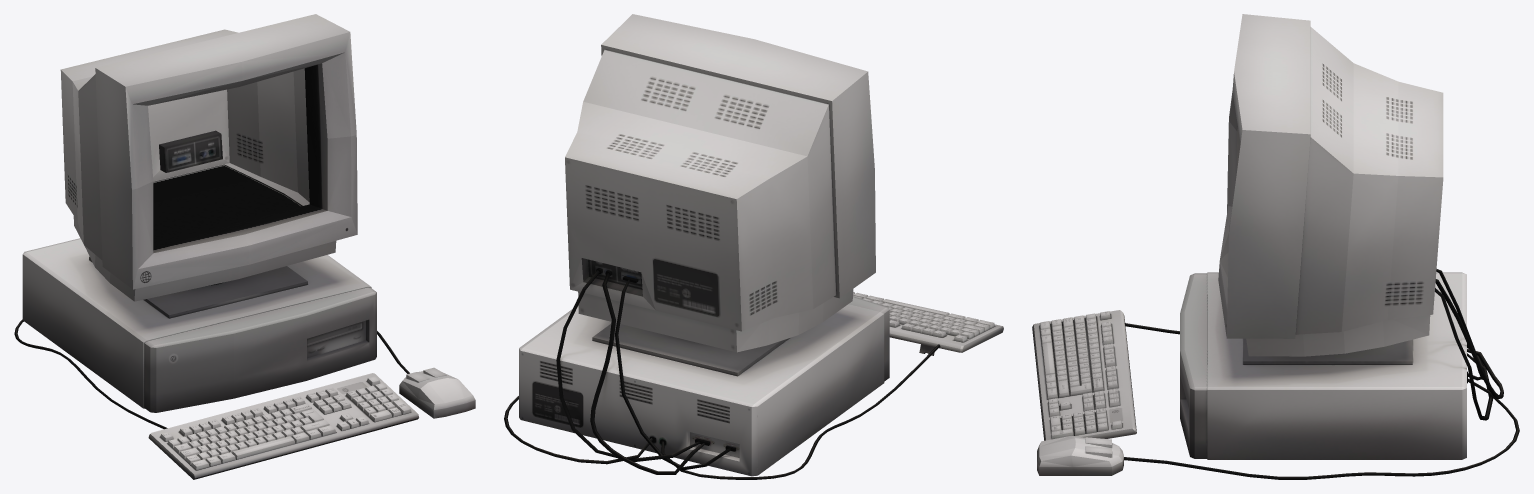
The model's file is computer_setup2.glb.
3 renders of one model, left to right at view 1: azimuth 30°, elevation 25°; view 2: azimuth 150°, elevation 25°; view 3: azimuth 270°, elevation 25°, orthographic. The views are drawn at different scales.
Visible parts, largest first — view 1: monitor_base, computer, keyboard, mouse, cables; view 2: monitor_base, computer, cables, keyboard; view 3: monitor_base, computer, keyboard, cables, mouse.
Part boxes in pixels (left/top/right/bottom): monitor_base: left=60, top=14, right=357, bottom=318; computer: left=22, top=238, right=376, bottom=412; keyboard: left=148, top=373, right=418, bottom=479; mouse: left=399, top=367, right=475, bottom=418; cables: left=14, top=149, right=409, bottom=429; monitor_base: left=565, top=14, right=875, bottom=376; computer: left=519, top=296, right=889, bottom=476; cables: left=504, top=268, right=940, bottom=479; keyboard: left=853, top=292, right=1003, bottom=355; monitor_base: left=1218, top=14, right=1443, bottom=364; computer: left=1180, top=272, right=1466, bottom=459; keyboard: left=1032, top=310, right=1136, bottom=440; cables: left=1124, top=269, right=1519, bottom=479; mouse: left=1037, top=436, right=1123, bottom=475.
Bounding box in the file's own units: 2.24 × 2.29 × 3.04.
5 materials, 5 textured.
